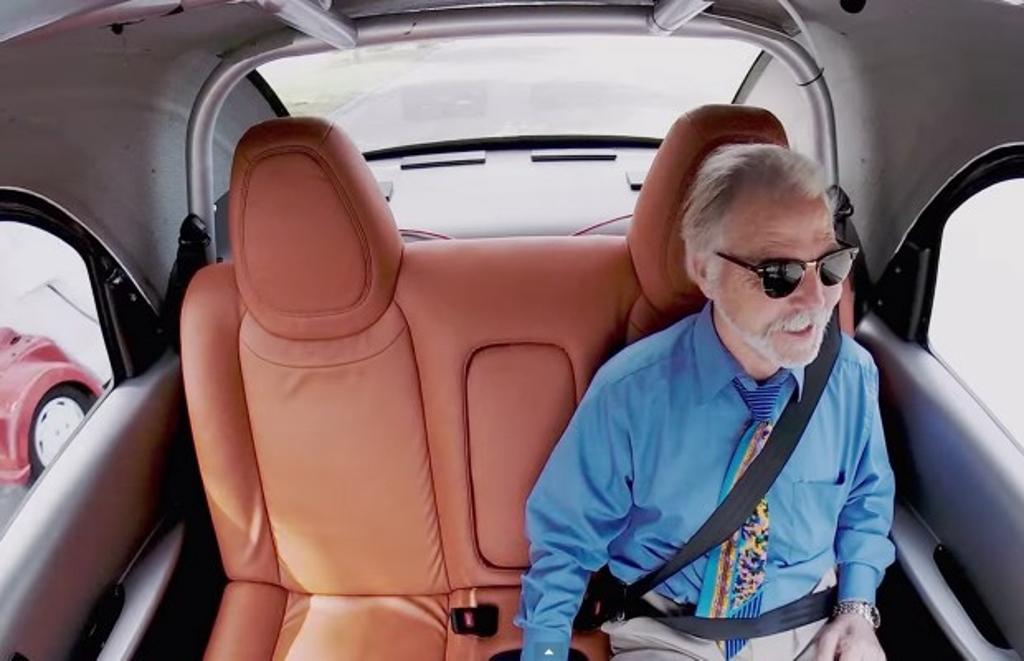face: (722, 204, 844, 368)
